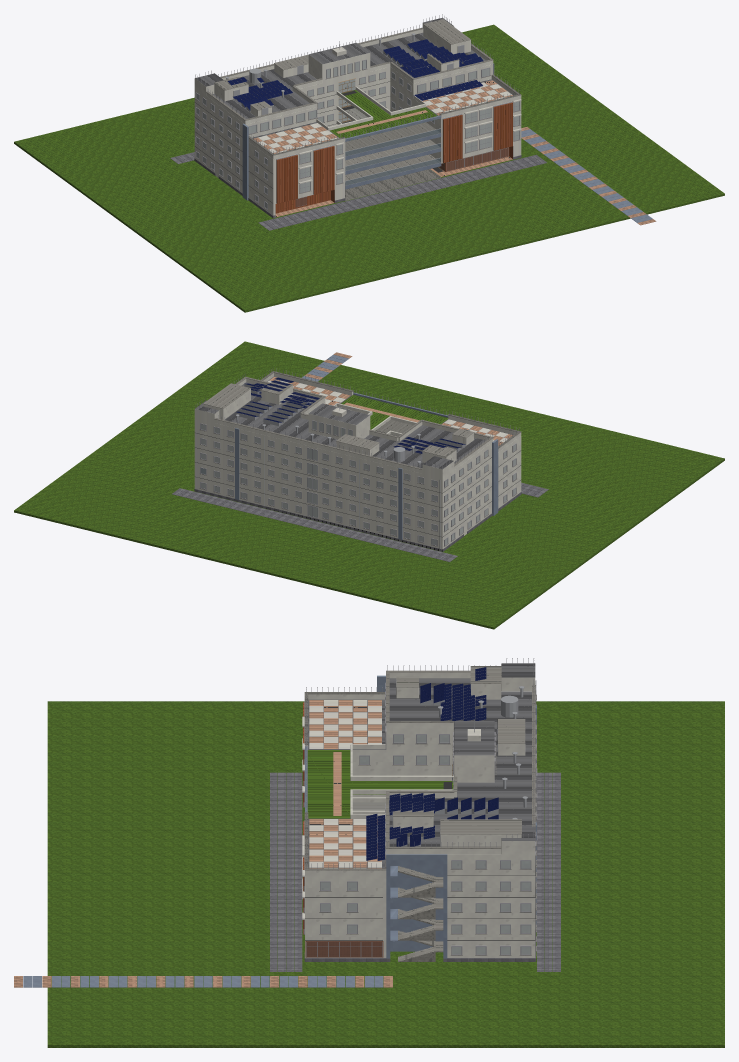
The model's file is BML_North_Block_HD.glb.
The picture shows the model from 3 angles, top to bottom: view 1: azimuth 30°, elevation 25°; view 2: azimuth 150°, elevation 25°; view 3: azimuth 270°, elevation 25°; orthographic projection. The views are drawn at different scales.
Parts seen in each view (by area): view 1: NB_Ground, NB_Shell_Hollow, NB_Roof_Details, NB_Gallery_Courtyards, NB_Windows, NB_Copper_Fins, NB_Plaza_Tiles, NB_Solar_Modules, NB_Path, NB_Cafe_E2, NB_Roof_Rail, NB_End_Ribs (+1 smaller); view 2: NB_Ground, NB_Shell_Hollow, NB_Roof_Details, NB_Windows, NB_Plaza_Tiles, NB_Gallery_Courtyards, NB_Solar_Modules, NB_Roof_Rail, NB_Path, NB_End_Ribs; view 3: NB_Ground, NB_Shell_Hollow, NB_Roof_Details, NB_Plaza_Tiles, NB_Carved_Stairs, NB_Windows, NB_Path, NB_Solar_Modules, NB_Gallery_Courtyards, NB_Cafe_E2, Cube, NB_Roof_Rail.
Part boxes in pixels (x1,y1,x2,y2): NB_Ground: (14, 24, 724, 312); NB_Shell_Hollow: (194, 17, 521, 215); NB_Roof_Details: (194, 19, 521, 218); NB_Gallery_Courtyards: (330, 107, 441, 200); NB_Windows: (195, 59, 521, 210); NB_Copper_Fins: (276, 101, 512, 203); NB_Plaza_Tiles: (170, 152, 546, 230); NB_Solar_Modules: (227, 46, 482, 103); NB_Path: (521, 127, 656, 225); NB_Cafe_E2: (275, 146, 512, 217); NB_Roof_Rail: (195, 14, 519, 154); NB_End_Ribs: (242, 123, 248, 200); NB_Ground: (14, 341, 724, 629); NB_Shell_Hollow: (194, 376, 521, 549); NB_Roof_Details: (194, 371, 521, 551); NB_Windows: (199, 408, 517, 546); NB_Plaza_Tiles: (172, 482, 548, 561); NB_Gallery_Courtyards: (341, 392, 448, 433); NB_Solar_Modules: (250, 377, 457, 453); NB_Roof_Rail: (195, 368, 519, 468); NB_Path: (302, 352, 352, 381); NB_End_Ribs: (492, 439, 498, 515); NB_Ground: (47, 701, 724, 1047); NB_Shell_Hollow: (305, 663, 535, 957); NB_Roof_Details: (304, 666, 536, 961); NB_Plaza_Tiles: (270, 772, 560, 971); NB_Carved_Stairs: (386, 854, 447, 961); NB_Windows: (302, 682, 537, 955); NB_Path: (14, 976, 392, 987); NB_Solar_Modules: (366, 667, 486, 860); NB_Gallery_Courtyards: (305, 746, 352, 818); NB_Cafe_E2: (305, 941, 383, 957); Cube: (352, 781, 453, 794); NB_Roof_Rail: (306, 658, 534, 868).
Size of the model in its own units: 240 by 51 by 210.
21 materials, 14 textured.
